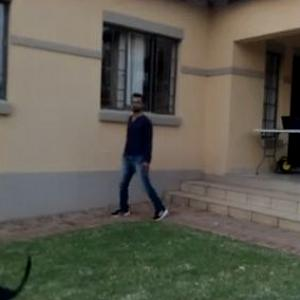follow: (116, 85, 159, 225)
